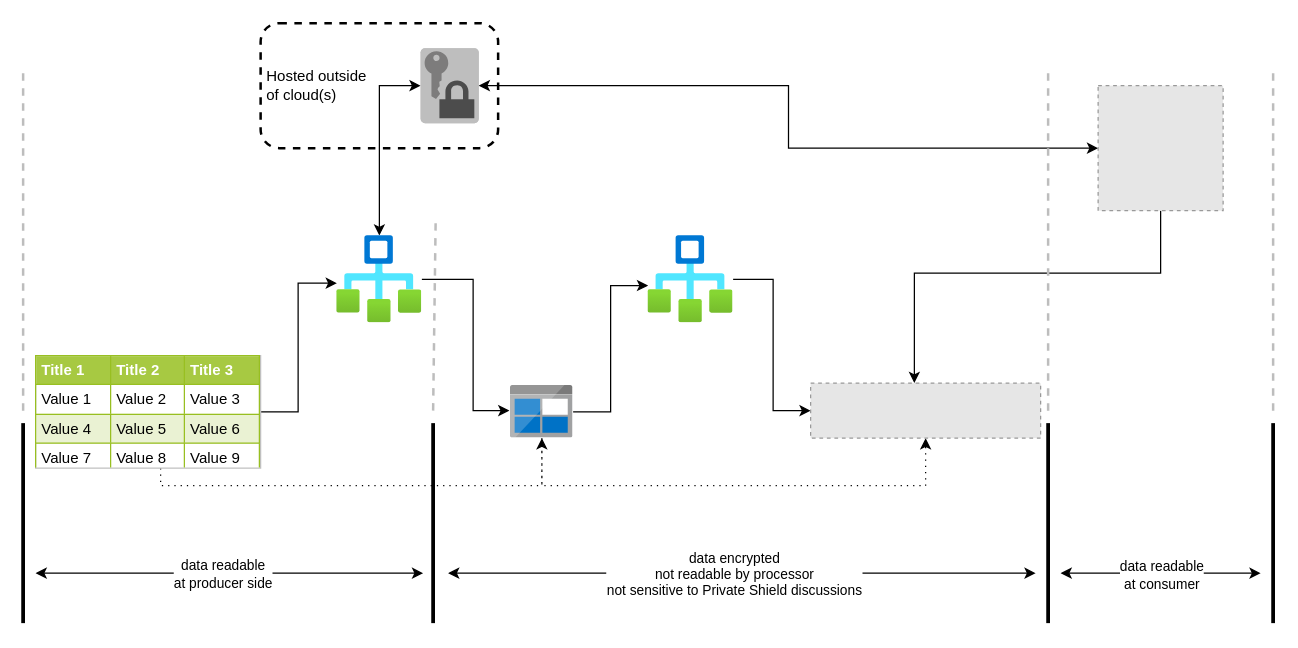
Some shapes in this 1298 by 648 pixel diagram are drawn without their labels. Grey dashed boxes stand in for pictures. The centre of each missing label's shape, as x and y in pixels:
Ingestion flow: the point at 378,278
Transformation flow: the point at 690,278
